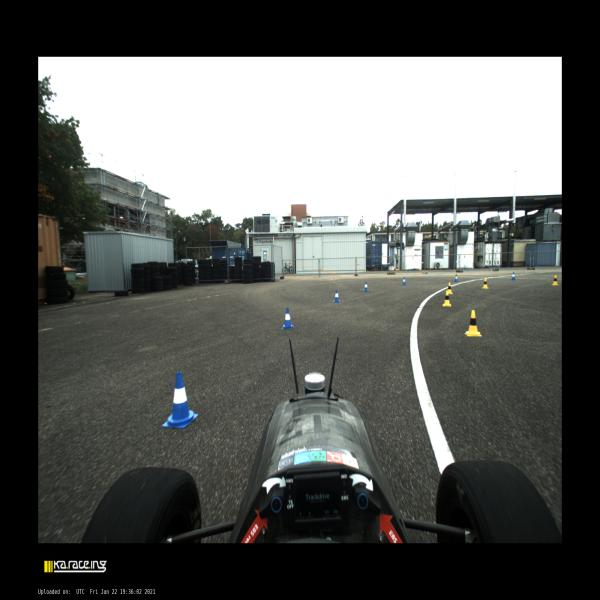blue_cone: (162, 372, 198, 428), (282, 306, 294, 330), (332, 288, 340, 302), (363, 281, 369, 292), (511, 272, 516, 280), (402, 276, 406, 285), (455, 274, 458, 282)
yellow_cone: (464, 310, 482, 336), (443, 291, 451, 307), (551, 275, 559, 286), (482, 278, 489, 290), (448, 282, 453, 294)
